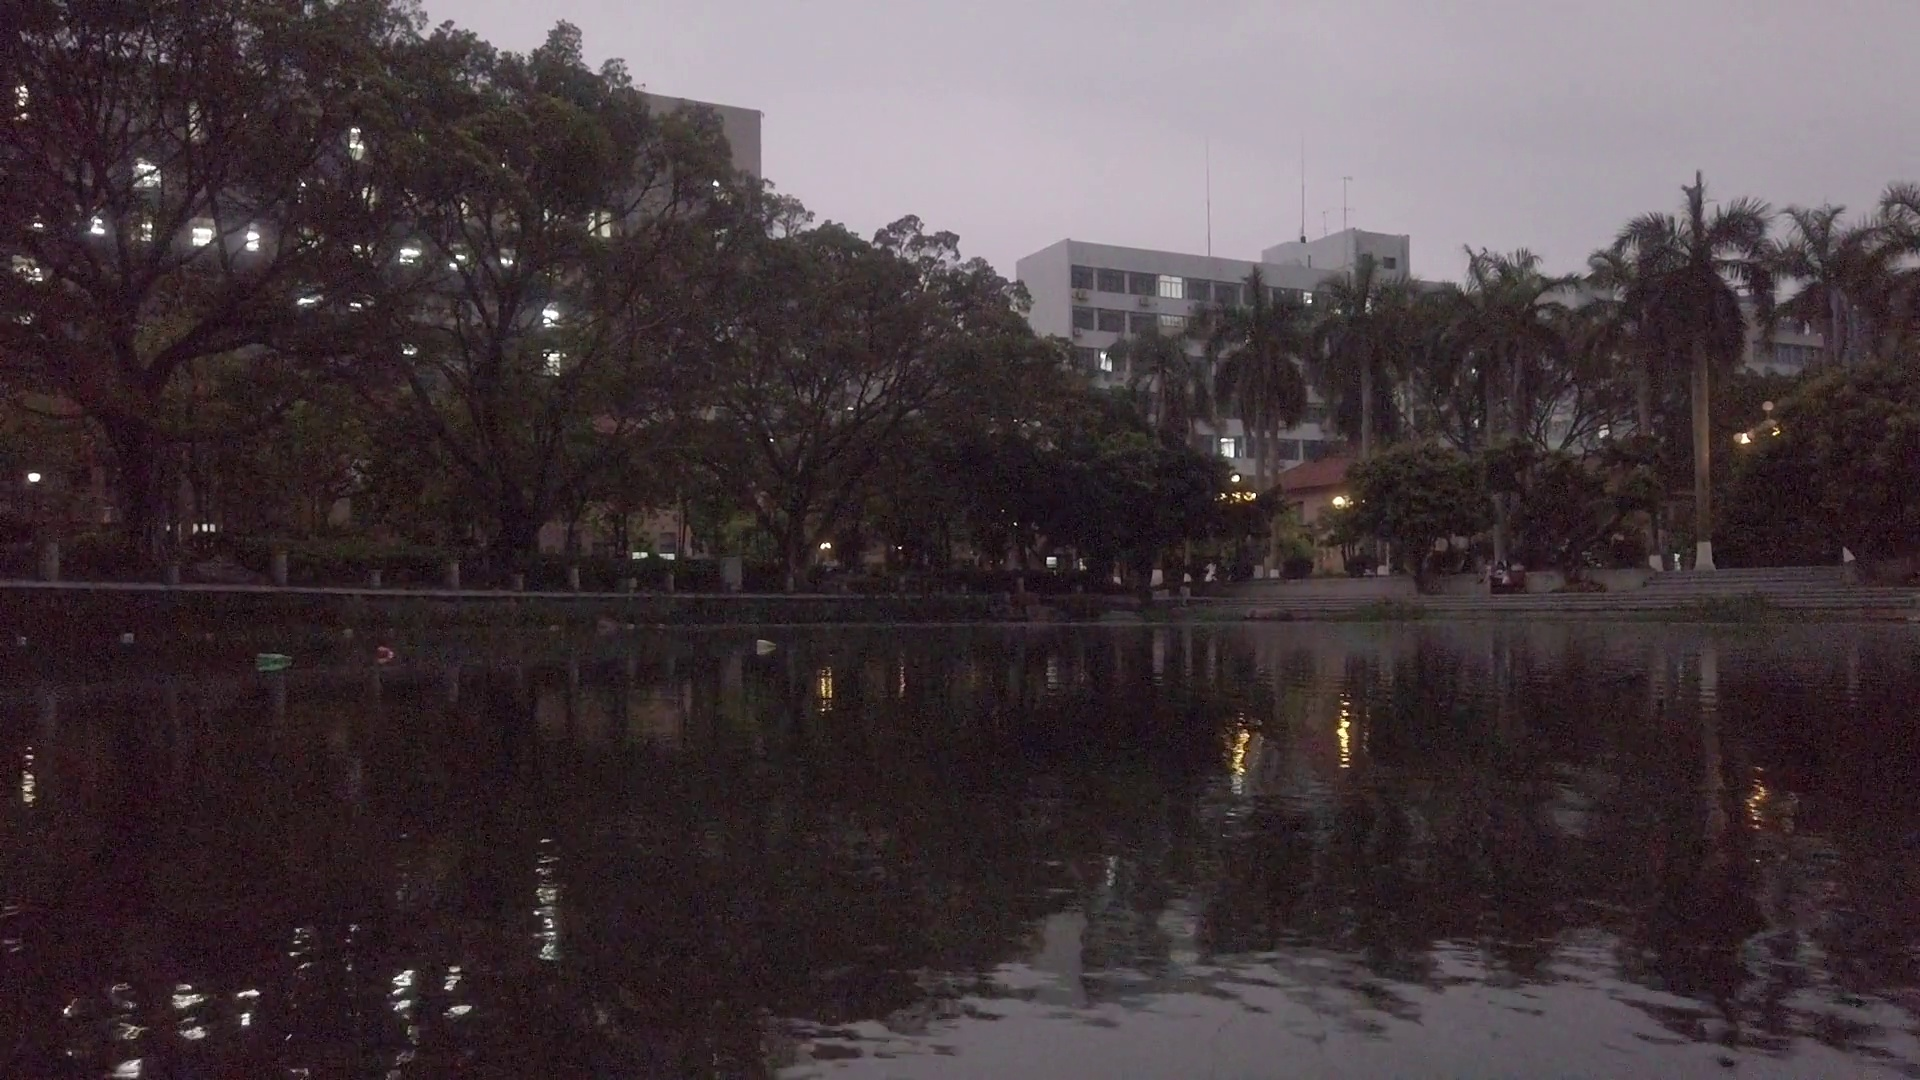bottle: (256, 651, 291, 666), (754, 637, 774, 650), (372, 646, 393, 658)
carton: (117, 632, 136, 642)
